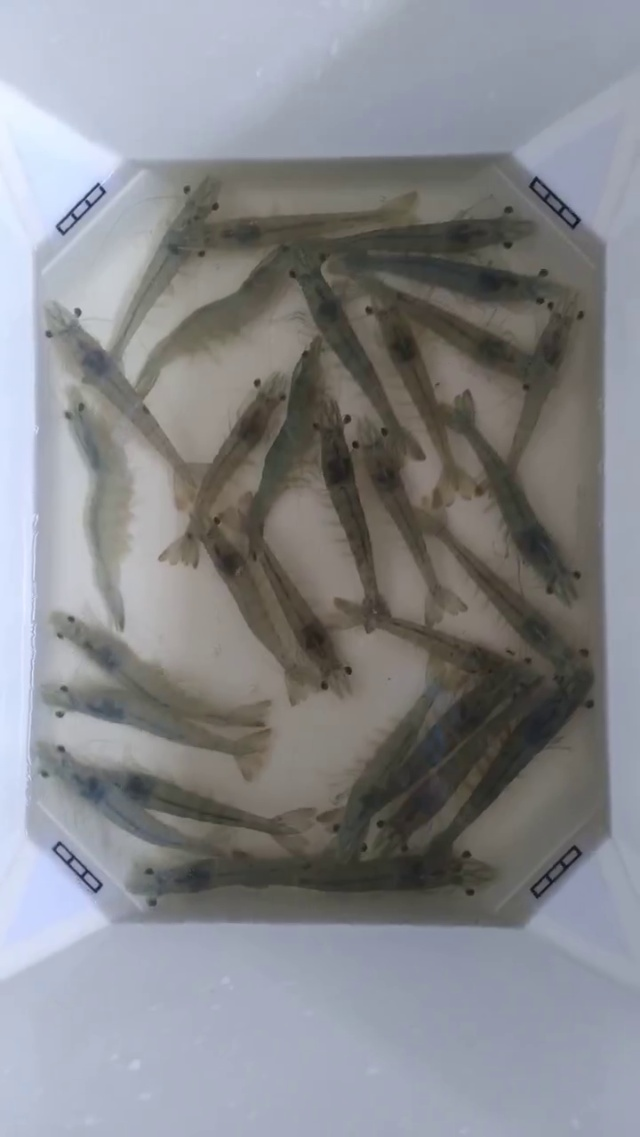shrimp: (15, 778, 140, 966), (573, 143, 639, 499), (160, 393, 269, 583), (79, 329, 188, 508), (579, 498, 639, 787), (308, 227, 424, 372), (446, 390, 540, 566), (120, 177, 219, 343), (506, 271, 583, 470), (0, 603, 65, 838), (415, 773, 516, 922), (31, 739, 142, 873), (44, 612, 151, 748), (338, 339, 424, 508), (37, 228, 125, 363), (285, 598, 363, 704), (223, 214, 352, 277), (214, 371, 290, 469), (307, 758, 371, 863), (529, 175, 581, 273)
